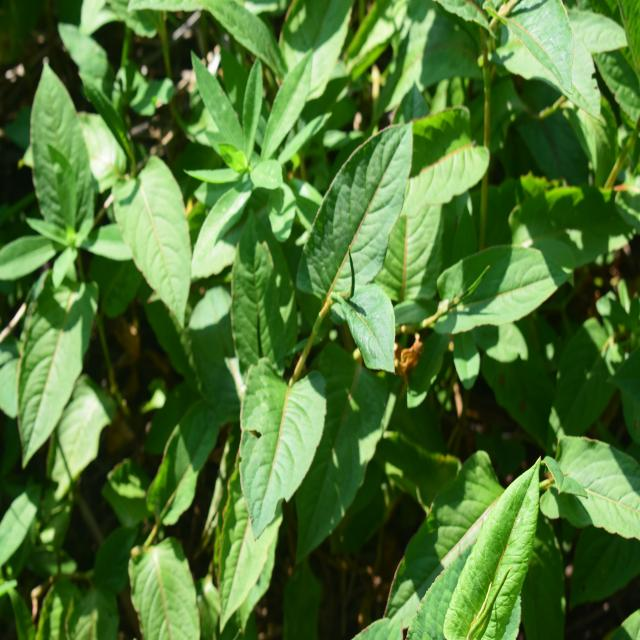Chinese_knotweed: (215, 143, 433, 537)
